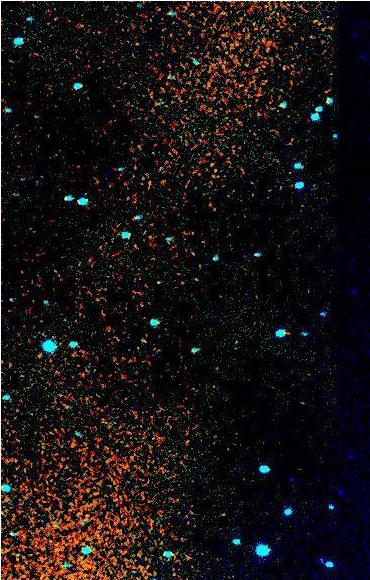star: (157, 460, 187, 490)
